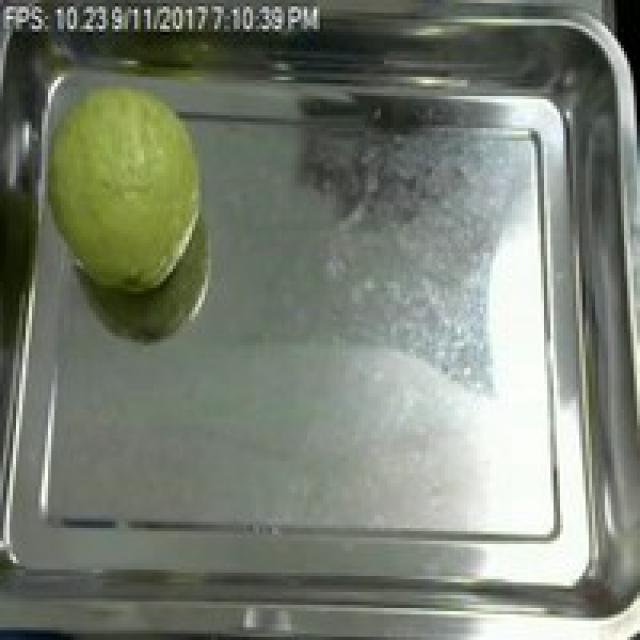Fruit: (9, 64, 220, 304)
